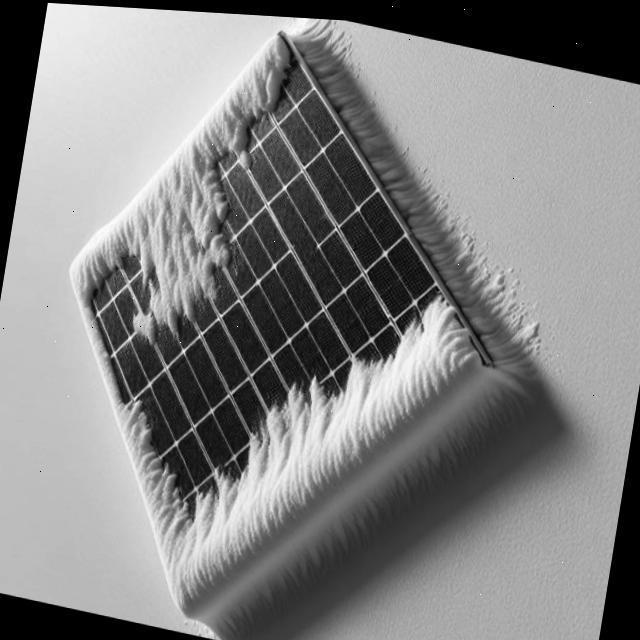Anomaly Solar Panel: (0, 29, 516, 611)
Snow: (0, 27, 518, 614)
